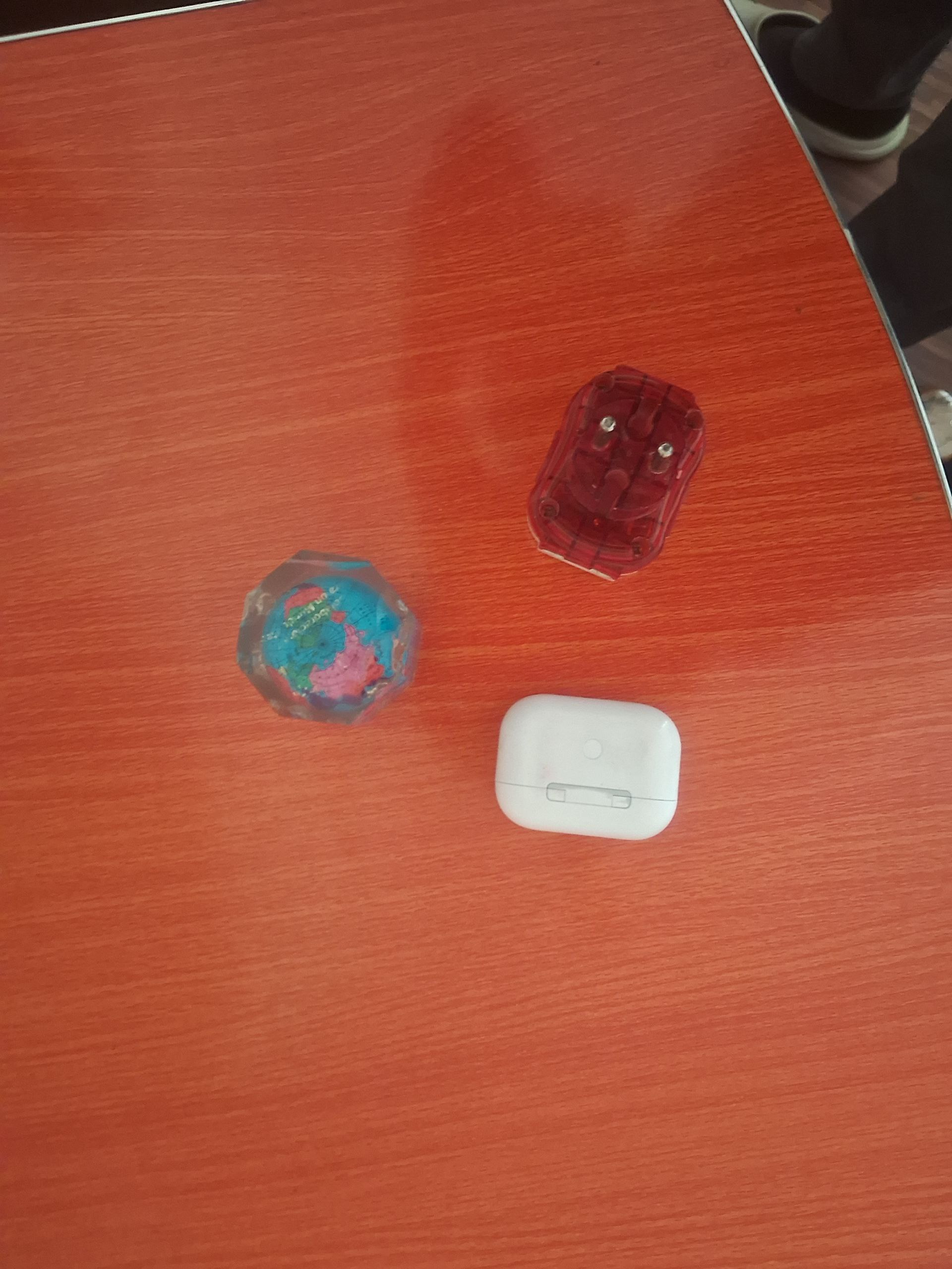Air_pod: (489, 686, 686, 845)
Multi_adapter: (520, 357, 709, 588)
world_globe: (232, 544, 427, 730)
